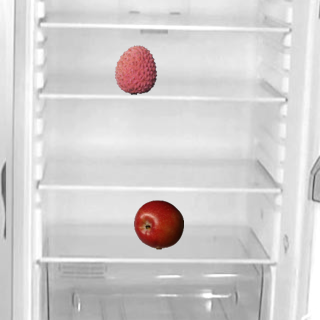Apple Braeburn: (133, 199, 183, 249)
Lychee: (110, 44, 160, 94)
